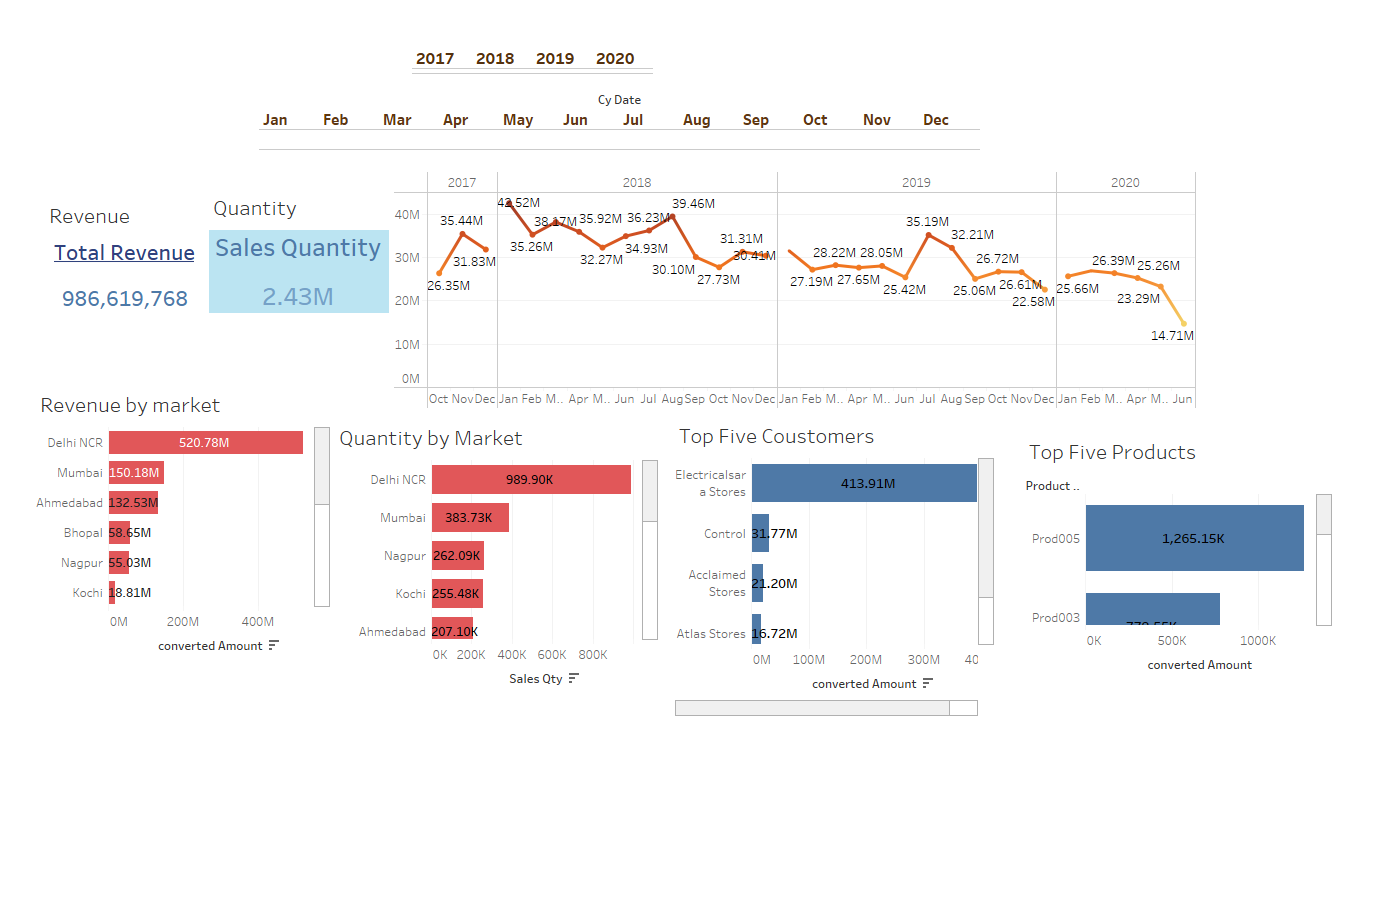

Layout of this report page (visuals, bound fields, positions):
{"tool":"tableau","page":{"name":"Dashboard 1","canvas":[1400,900],"ordinal":0},"visuals":[{"type":"worksheet","title":"Year","mark":"Automatic","cols":["cy_date"],"box":[412,32,457,43]},{"type":"worksheet","title":"Month","mark":"Automatic","cols":["cy_date"],"box":[259,74,744,97]},{"type":"worksheet","title":"Revenue By Year","mark":"Automatic","rows":["Calculation_785878200278732800"],"cols":["cy_date","cy_date"],"box":[394,157,803,252]},{"type":"worksheet","title":"Quantity","mark":"Automatic","box":[209,187,210,179]},{"type":"worksheet","title":"Revenue","mark":"Automatic","box":[45,195,189,129]},{"type":"worksheet","title":"Revenue by market","mark":"Automatic","rows":["markets_name"],"cols":["Calculation_785878200278732800"],"box":[36,384,294,277]},{"type":"worksheet","title":"Top Five Coustomers","mark":"Automatic","rows":["custmer_name"],"cols":["Calculation_785878200278732800"],"box":[675,415,319,301]},{"type":"worksheet","title":"Quantity by Market","mark":"Automatic","rows":["markets_name"],"cols":["sales_qty"],"box":[335,417,323,277]},{"type":"worksheet","title":"Top Five Products","mark":"Automatic","rows":["product_code"],"cols":["Calculation_785878200278732800"],"box":[1025,431,307,249]}]}

Visuals, with their boxes in screenshot pixels (x1, y1, x2, y2), scaled from the page's 1400x900 canvas onto the 1400x900 screenshot:
"Year" worksheet: select_region(412, 32, 869, 75)
"Month" worksheet: select_region(259, 74, 1003, 171)
"Revenue By Year" worksheet: select_region(394, 157, 1197, 409)
"Quantity" worksheet: select_region(209, 187, 419, 366)
"Revenue" worksheet: select_region(45, 195, 234, 324)
"Revenue by market" worksheet: select_region(36, 384, 330, 661)
"Top Five Coustomers" worksheet: select_region(675, 415, 994, 716)
"Quantity by Market" worksheet: select_region(335, 417, 658, 694)
"Top Five Products" worksheet: select_region(1025, 431, 1332, 680)
